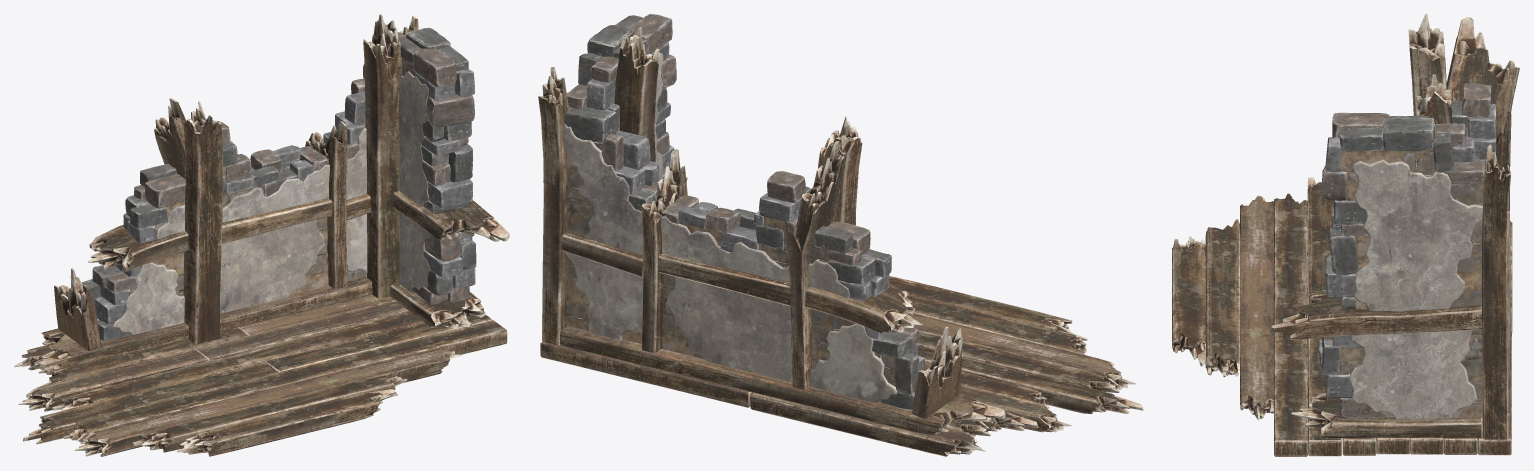
3 renders of one model, left to right at view 1: azimuth 30°, elevation 25°; view 2: azimuth 150°, elevation 25°; view 3: azimuth 270°, elevation 25°, orthographic. The views are drawn at different scales.
Visible parts, largest first — view 1: SM_House_Corner_Dmg_02_LOD0; view 2: SM_House_Corner_Dmg_02_LOD0; view 3: SM_House_Corner_Dmg_02_LOD0.
Part boxes in pixels (left/top/right/bottom): SM_House_Corner_Dmg_02_LOD0: left=14, top=14, right=509, bottom=456; SM_House_Corner_Dmg_02_LOD0: left=538, top=14, right=1143, bottom=456; SM_House_Corner_Dmg_02_LOD0: left=1172, top=14, right=1519, bottom=456.
Size of the model in its own units: 4.75 by 2.84 by 2.56.
4 materials, 4 textured.
